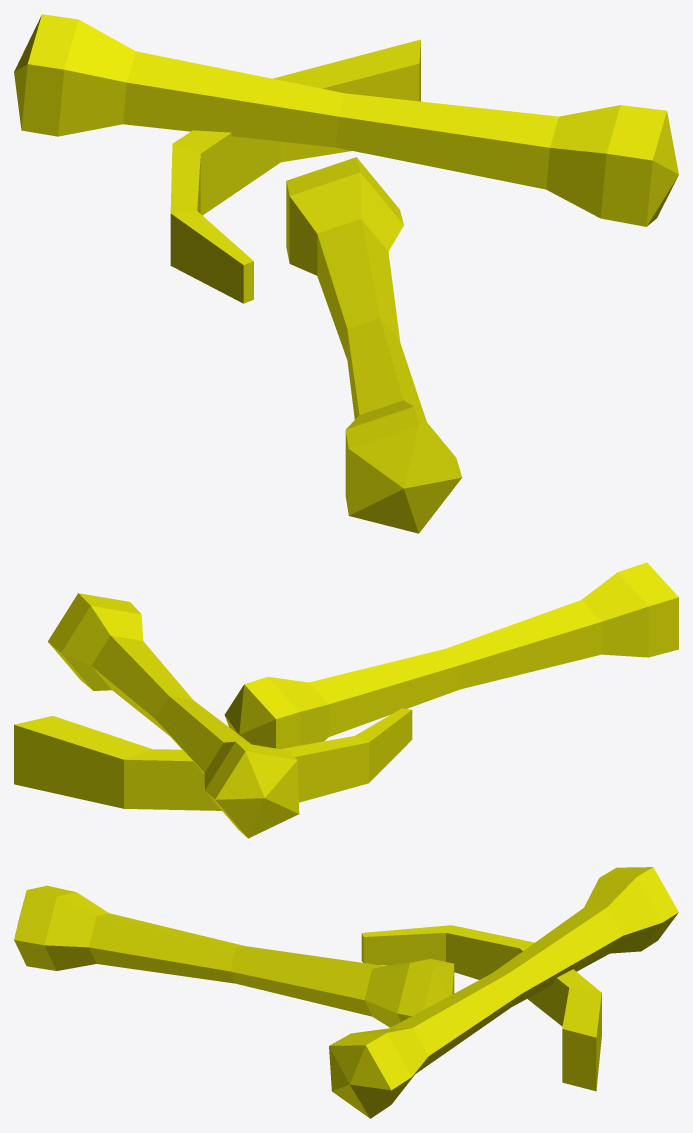
Rendered from SM_Prop_Bones_01.glb.
3 renders of one model, top to bottom at view 1: azimuth 30°, elevation 25°; view 2: azimuth 150°, elevation 25°; view 3: azimuth 270°, elevation 25°, orthographic. The views are drawn at different scales.
Visible parts, largest first — view 1: SM_Prop_Bones_01; view 2: SM_Prop_Bones_01; view 3: SM_Prop_Bones_01.
Part boxes in pixels (bbox=[...]): SM_Prop_Bones_01: bbox=[14, 14, 678, 533]; SM_Prop_Bones_01: bbox=[14, 562, 678, 838]; SM_Prop_Bones_01: bbox=[14, 867, 678, 1118].
Size of the model in its own units: 0.5797 by 0.1721 by 0.8401.
